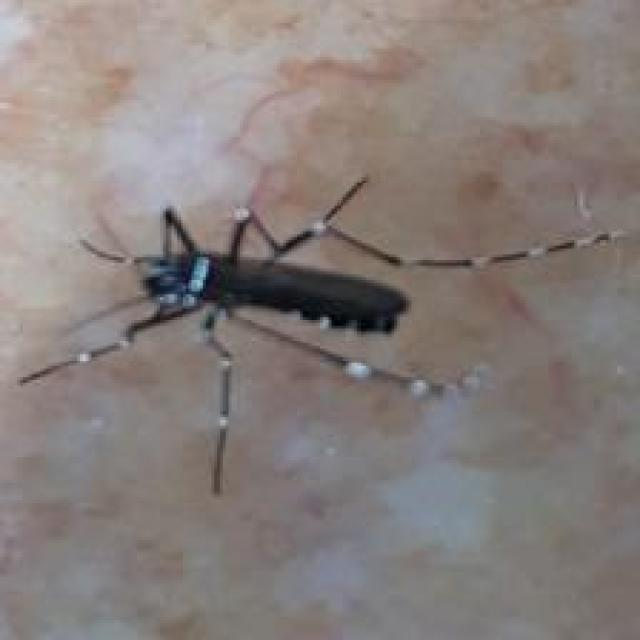Aedes albopictus: (16, 173, 633, 496)
